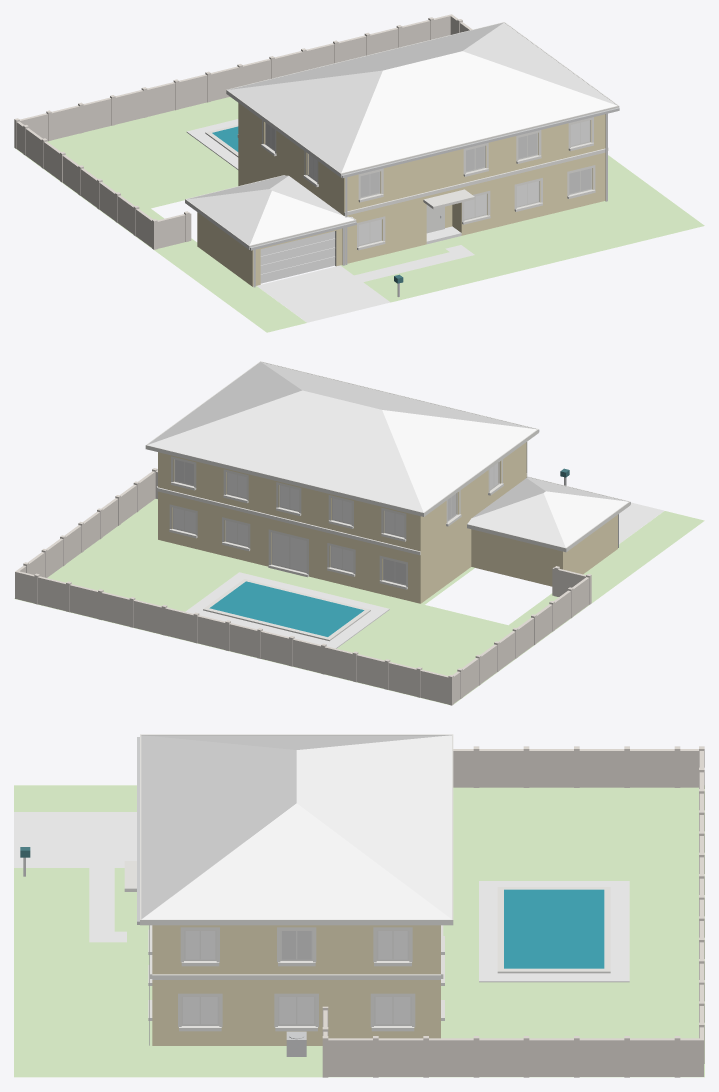
The model's file is house_villa110.glb.
The picture shows the model from 3 angles, top to bottom: view 1: azimuth 30°, elevation 25°; view 2: azimuth 150°, elevation 25°; view 3: azimuth 270°, elevation 25°; orthographic projection. The views are drawn at different scales.
Visible parts, largest first — view 1: house_villa110_Roof, house_villa110_Lawn, house_villa110_Walls, house_villa110_Walls2, house_villa110_Trim, house_villa110_Site, house_villa110_Doors, house_villa110_Details, house_villa110_Glass, house_villa110_WindowsLit, house_villa110_Frames; view 2: house_villa110_Roof, house_villa110_Walls, house_villa110_Lawn, house_villa110_Walls2, house_villa110_Trim, house_villa110_Glass, house_villa110_Water, house_villa110_Site, house_villa110_Frames, house_villa110_WindowsLit; view 3: house_villa110_Lawn, house_villa110_Roof, house_villa110_Walls2, house_villa110_Walls, house_villa110_Site, house_villa110_Trim, house_villa110_Water, house_villa110_Glass, house_villa110_Frames, house_villa110_Details, house_villa110_WindowsLit.
Part boxes in pixels (<box>): house_villa110_Roof: <box>187,22,617,245</box>; house_villa110_Lawn: <box>15,97,704,332</box>; house_villa110_Walls: <box>197,103,605,286</box>; house_villa110_Walls2: <box>14,14,472,249</box>; house_villa110_Trim: <box>185,22,619,265</box>; house_villa110_Site: <box>186,119,474,322</box>; house_villa110_Doors: <box>260,231,334,283</box>; house_villa110_Details: <box>250,107,619,297</box>; house_villa110_Glass: <box>308,120,589,244</box>; house_villa110_WindowsLit: <box>266,123,591,196</box>; house_villa110_Frames: <box>265,120,592,246</box>; house_villa110_Roof: <box>147,362,628,547</box>; house_villa110_Walls: <box>158,442,617,603</box>; house_villa110_Lawn: <box>14,499,704,704</box>; house_villa110_Walls2: <box>15,468,591,705</box>; house_villa110_Trim: <box>145,361,630,641</box>; house_villa110_Glass: <box>173,463,498,571</box>; house_villa110_Water: <box>209,581,364,636</box>; house_villa110_Site: <box>185,502,664,648</box>; house_villa110_Frames: <box>172,459,499,585</box>; house_villa110_WindowsLit: <box>175,460,456,584</box>; house_villa110_Lawn: <box>14,785,704,1077</box>; house_villa110_Roof: <box>141,735,451,919</box>; house_villa110_Walls2: <box>322,746,704,1077</box>; house_villa110_Walls: <box>152,925,440,1045</box>; house_villa110_Site: <box>14,812,629,982</box>; house_villa110_Trim: <box>124,734,610,1031</box>; house_villa110_Water: <box>504,889,604,968</box>; house_villa110_Glass: <box>183,931,410,1024</box>; house_villa110_Frames: <box>181,930,411,1025</box>; house_villa110_Details: <box>23,737,306,1056</box>; house_villa110_WindowsLit: <box>282,931,311,959</box>.
Size of the model in its own units: 110 by 31.93 by 110.
